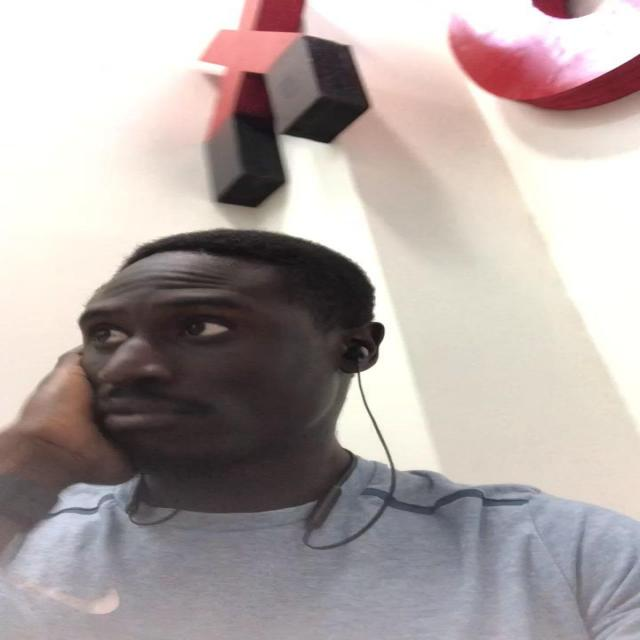face: (75, 270, 358, 476)
